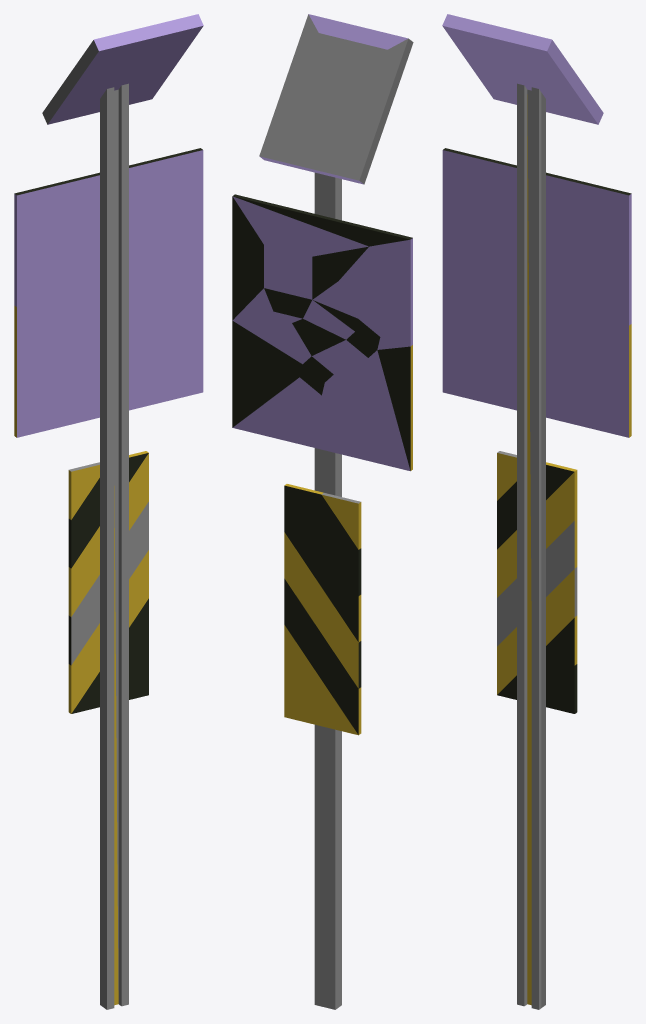
The model's file is SM_Sign_02.fbx.
3 views of the same model, side by side, from view 1: azimuth 30°, elevation 25°; view 2: azimuth 150°, elevation 25°; view 3: azimuth 330°, elevation 25° (orthographic). The views are drawn at different scales.
Visible parts, largest first — view 1: SM_Sign_02; view 2: SM_Sign_02; view 3: SM_Sign_02.
Boxes of the visible parts, left/top/right/bottom form: SM_Sign_02: left=14, top=14, right=203, bottom=1009; SM_Sign_02: left=232, top=14, right=413, bottom=1009; SM_Sign_02: left=442, top=14, right=631, bottom=1009.
Bounding box in the file's own units: 118 × 606 × 62.25.
